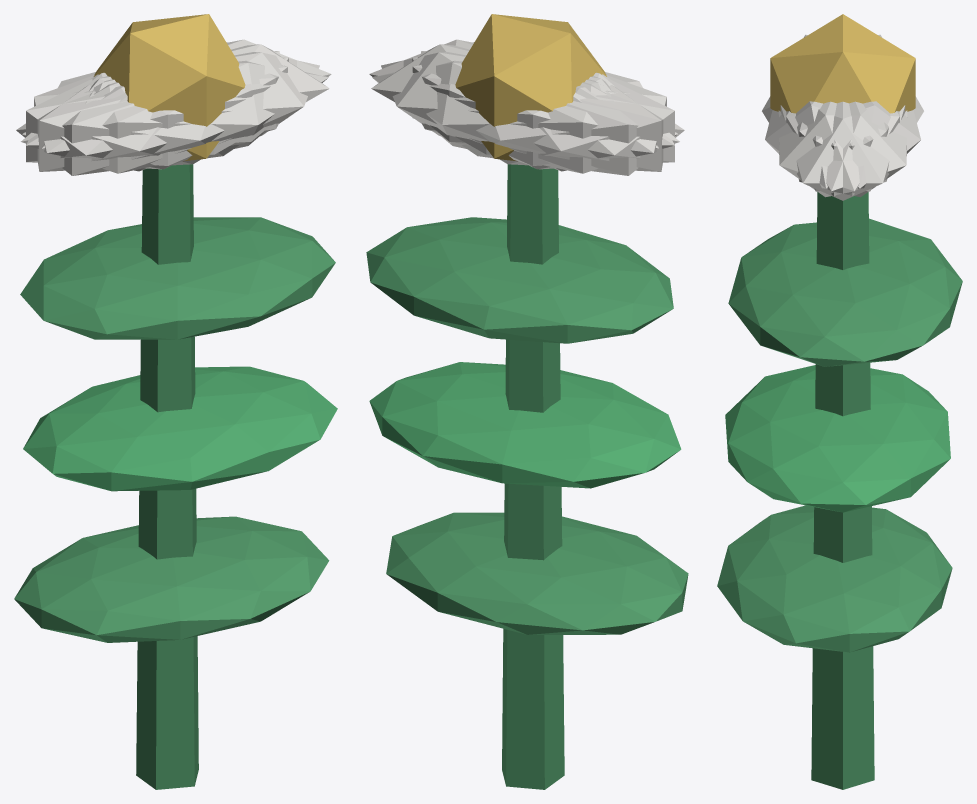
The model's file is ochna-serrulata.glb.
3 renders of one model, left to right at view 1: azimuth 30°, elevation 25°; view 2: azimuth 150°, elevation 25°; view 3: azimuth 270°, elevation 25°, orthographic.
Parts seen in each view (by area): view 1: leaf0, leaf2, leaf1, stem, center, petal1, petal6, petal2, petal5, petal7, petal0, petal4 (+2 smaller); view 2: leaf2, leaf1, leaf0, stem, center, petal8, petal3, petal7, petal4, petal2, petal0, petal5 (+2 smaller); view 3: leaf2, leaf1, leaf0, stem, center, petal0, petal5, petal4, petal1, petal8.
Part boxes in pixels (bbox=[...]): leaf0: bbox=[14, 516, 329, 642]; leaf2: bbox=[20, 217, 335, 339]; leaf1: bbox=[23, 366, 337, 491]; stem: bbox=[136, 164, 198, 789]; center: bbox=[93, 14, 245, 161]; petal1: bbox=[21, 60, 328, 173]; petal6: bbox=[16, 74, 238, 175]; petal2: bbox=[37, 51, 279, 171]; petal5: bbox=[42, 52, 319, 165]; petal7: bbox=[26, 57, 288, 169]; petal0: bbox=[93, 44, 329, 155]; petal4: bbox=[22, 39, 331, 145]; leaf2: bbox=[366, 217, 673, 343]; leaf1: bbox=[369, 362, 681, 488]; leaf0: bbox=[386, 512, 688, 634]; stem: bbox=[502, 164, 564, 789]; center: bbox=[455, 14, 606, 161]; petal8: bbox=[372, 60, 679, 173]; petal3: bbox=[462, 74, 684, 175]; petal7: bbox=[421, 51, 663, 171]; petal4: bbox=[381, 52, 658, 165]; petal2: bbox=[412, 57, 674, 169]; petal0: bbox=[371, 44, 607, 155]; petal5: bbox=[369, 39, 678, 145]; leaf2: bbox=[728, 218, 962, 366]; leaf1: bbox=[725, 365, 950, 512]; leaf0: bbox=[717, 505, 952, 652]; stem: bbox=[811, 192, 874, 789]; center: bbox=[770, 14, 915, 113]; petal0: bbox=[780, 101, 905, 200]; petal5: bbox=[778, 101, 899, 197]; petal4: bbox=[786, 101, 907, 197]; petal1: bbox=[765, 101, 888, 188]; petal8: bbox=[797, 101, 920, 188].
Bounding box in the file's own units: 0.1452 × 0.3451 × 0.1035.
